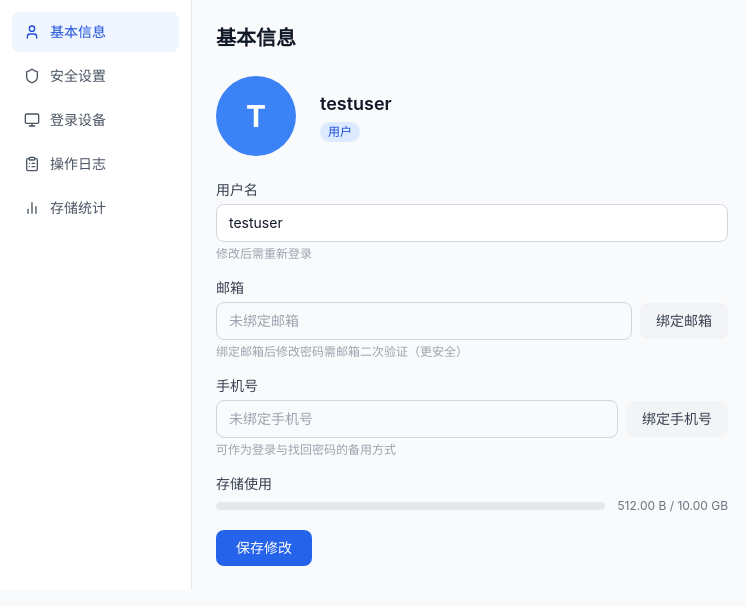
it: Profile page › switches to devices tab on click
This screenshot has width=745, height=607.
Click the button "登录设备": (96,120) [12,100,179,140]
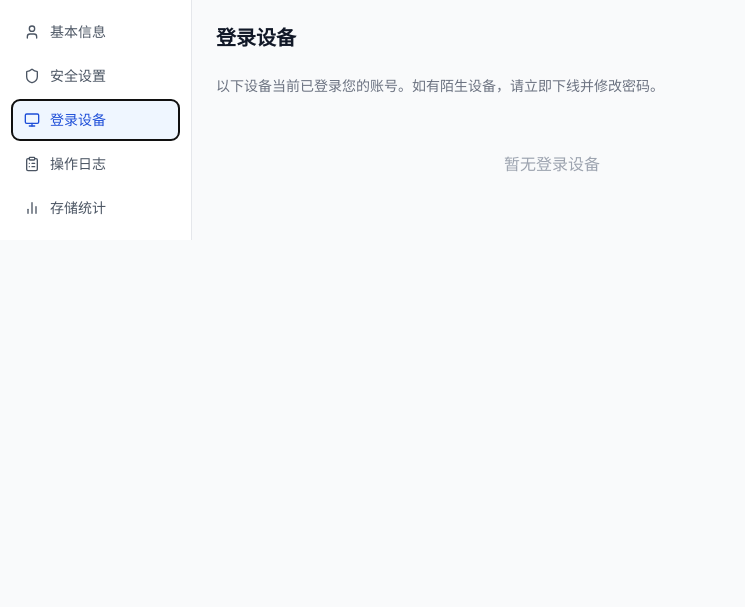
Result: the text "暂无登录设备" is shown at [504,154,600,174]
